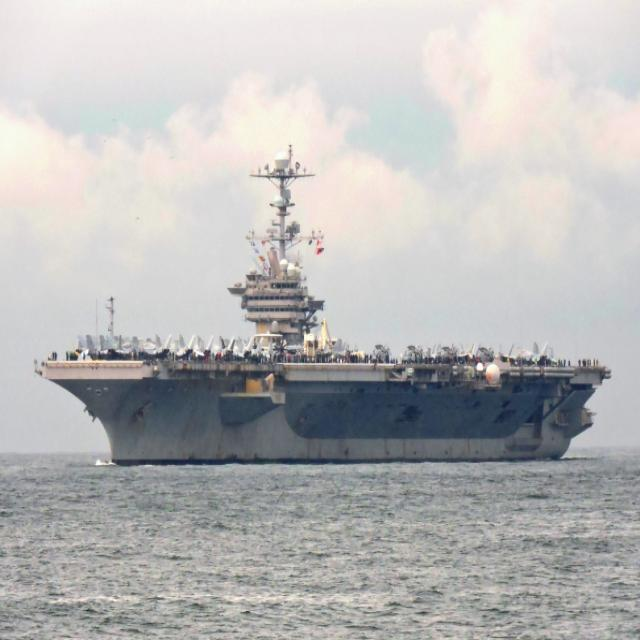Portanaves: (30, 145, 617, 478)
